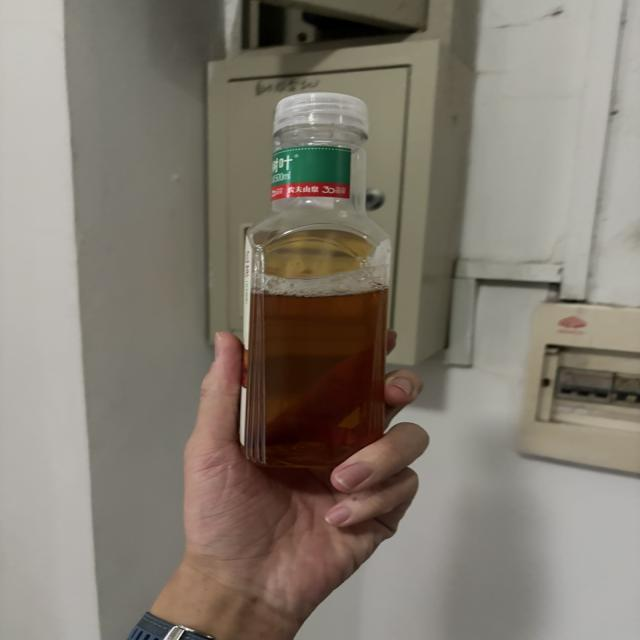medium: (239, 92, 391, 466)
